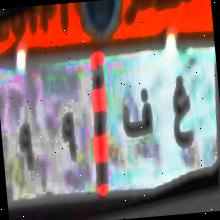9: (15, 114, 38, 177), (60, 107, 80, 164)
faa: (116, 78, 157, 152)
ghayn: (167, 63, 196, 158)
